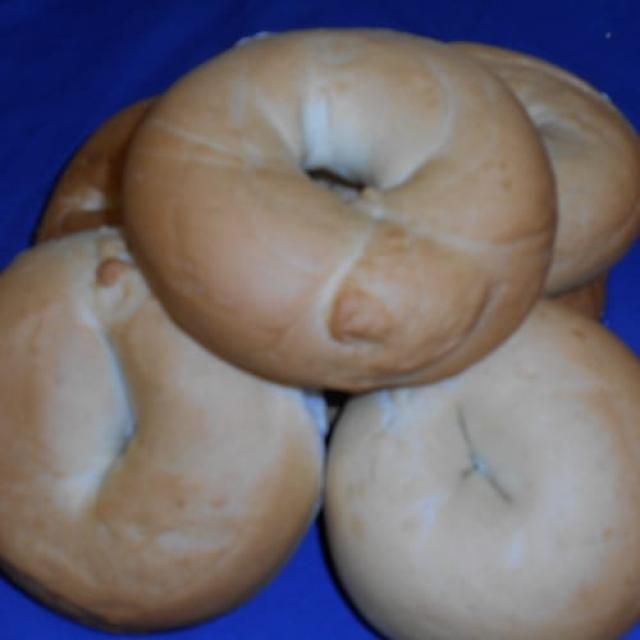Bagel: (124, 30, 556, 392), (0, 228, 325, 629), (326, 300, 640, 640)
